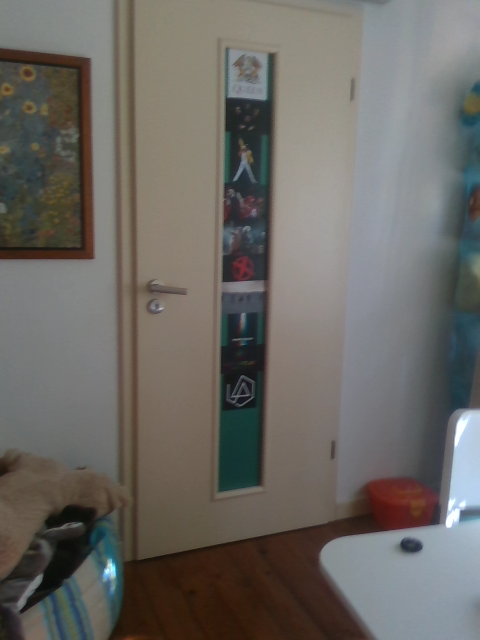closed: (110, 2, 366, 572)
